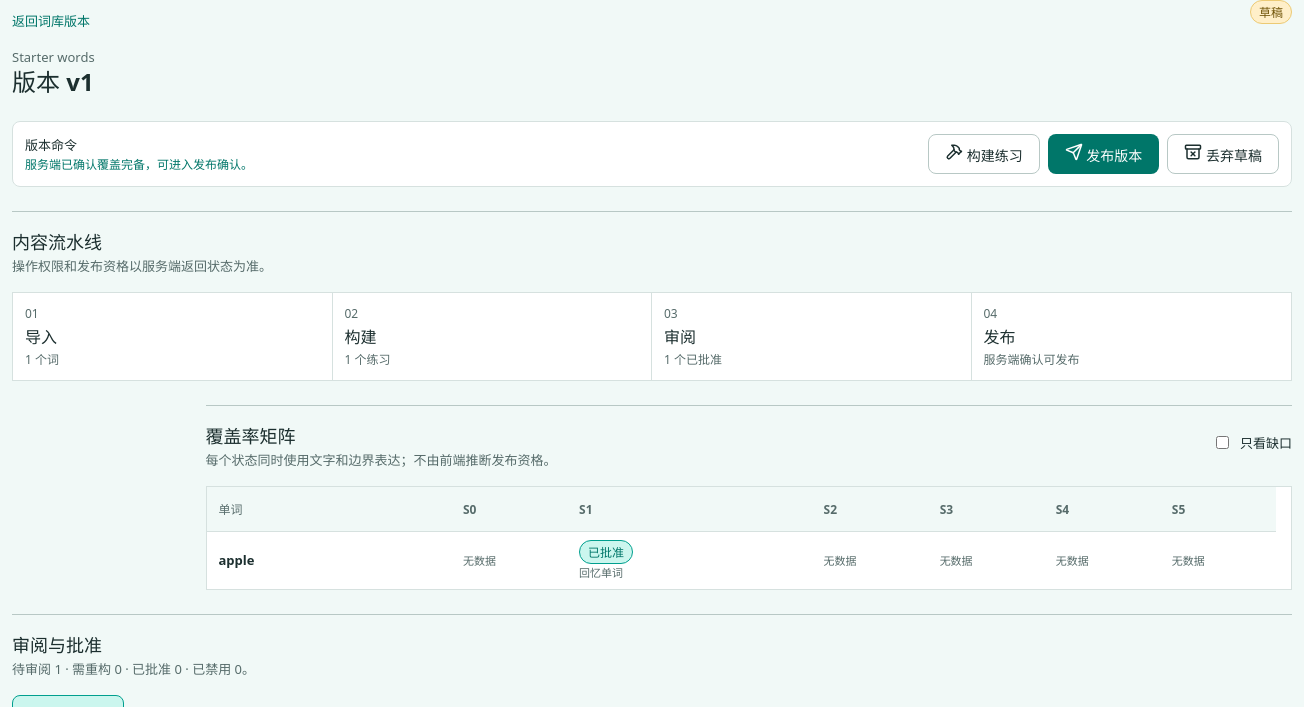
SourceVersionDetailPage › invalidates stale controls when publish succeeds but the authoritative refresh fails
The image size is (1304, 707).
Click the button "发布版本" at (1104, 154), box 1048,134 -> 1159,174
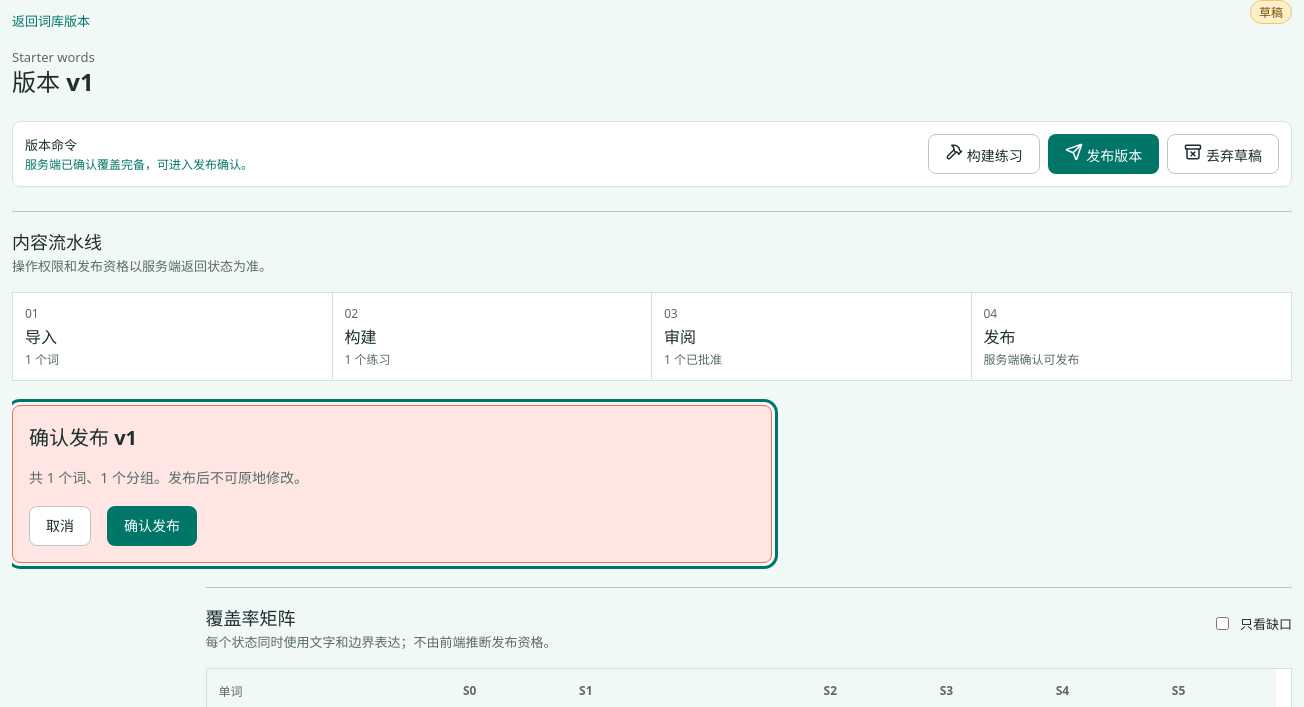
Click the button "确认发布" at (152, 526), box 107,506 -> 197,546
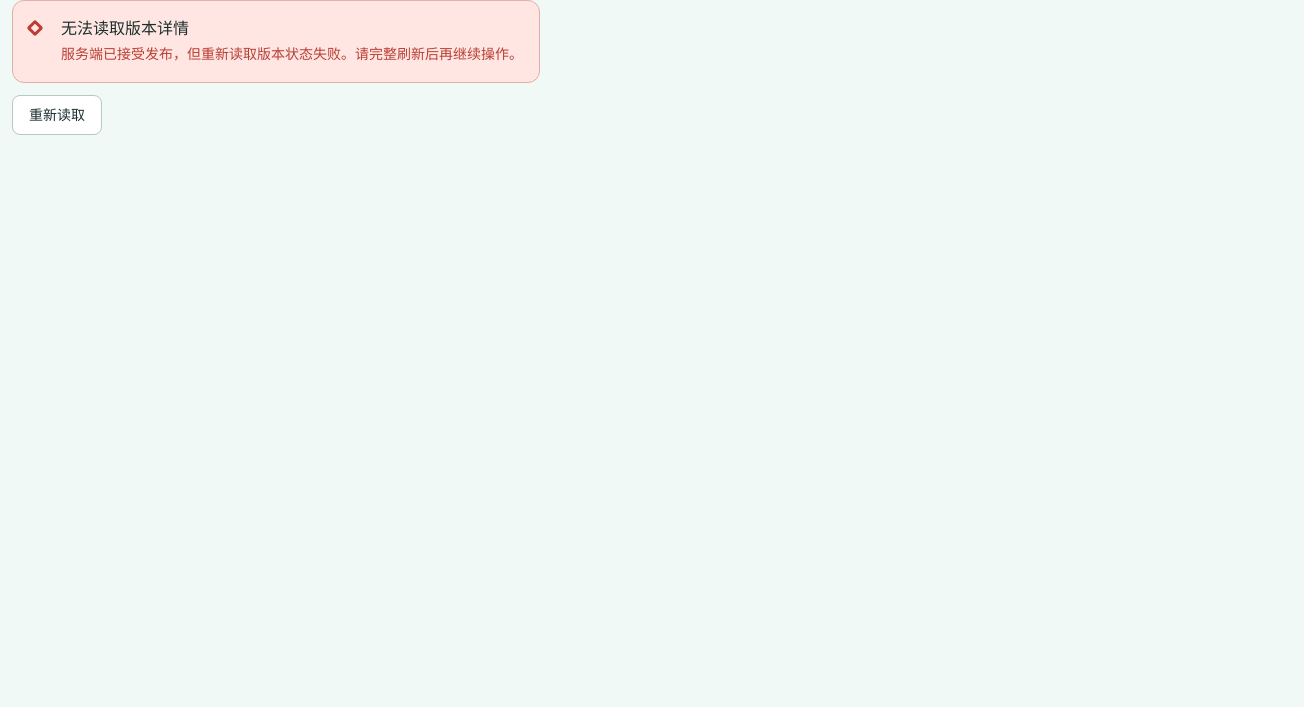
Expected: the message "无法读取版本详情 服务端已接受发布，但重新读取版本状态失败。请完整刷新后再继续操作。" is shown, 12,0 -> 540,83
